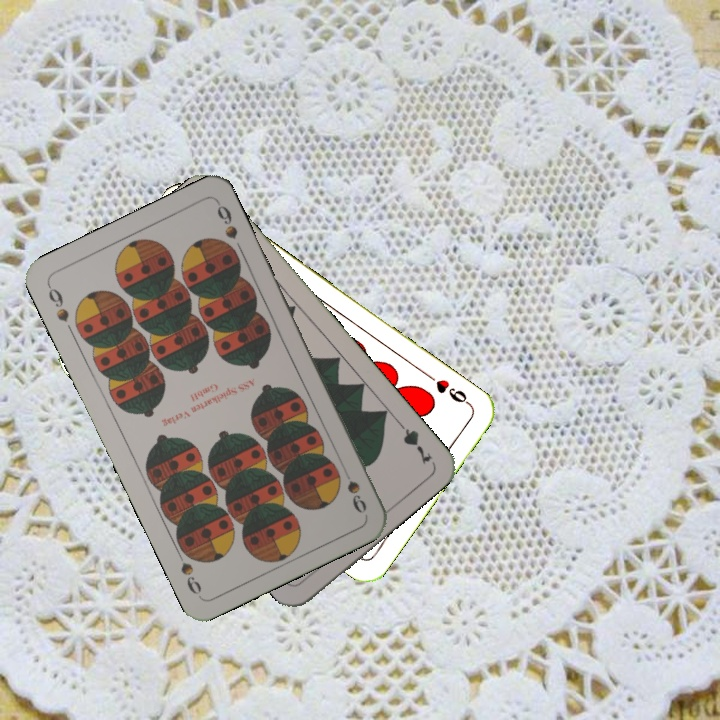G7: (391, 415, 435, 468)
H9: (421, 369, 473, 408)
S9: (337, 460, 369, 516), (43, 280, 72, 325)
